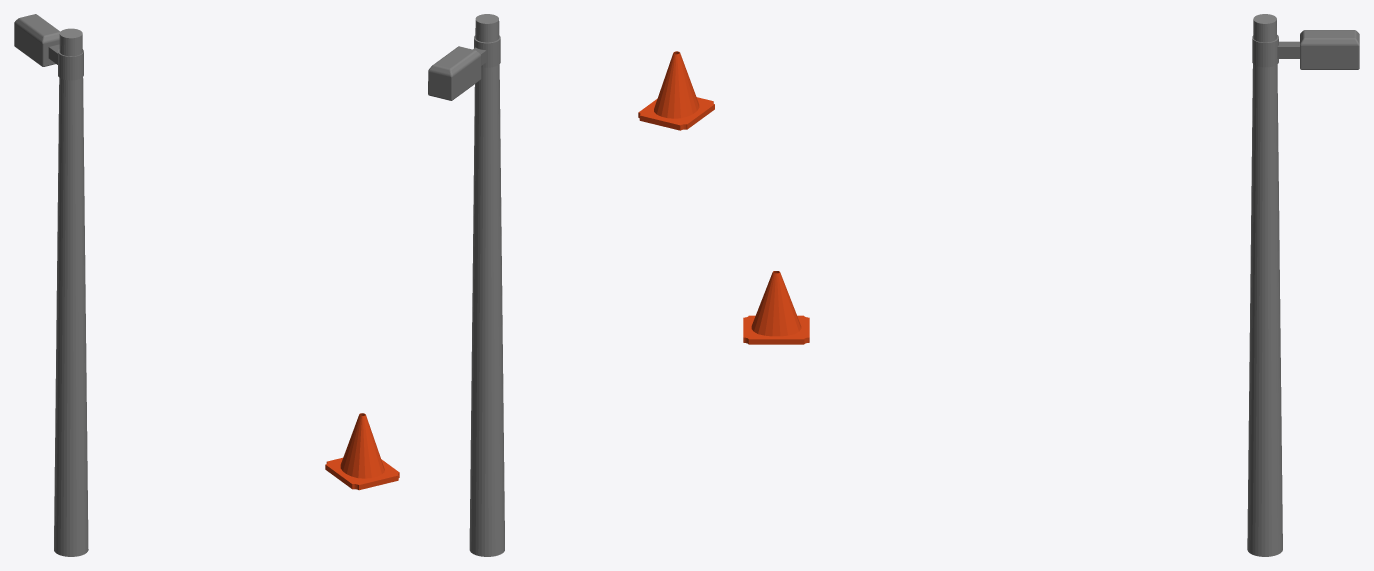
The model's file is lightpostncone.fbx.
3 renders of one model, left to right at view 1: azimuth 30°, elevation 25°; view 2: azimuth 150°, elevation 25°; view 3: azimuth 270°, elevation 25°, orthographic. The views are drawn at different scales.
Visible parts, largest first — view 1: Cylinder.002, Cube.002, Cube.001, Cylinder.001; view 2: Cylinder.002, Cube.002, Cube.001, Cylinder.001; view 3: Cylinder.002, Cube.002, Cube.001.
Part boxes in pixels (x1=…): Cylinder.002: x1=54, y1=28, x2=88, y2=556; Cube.002: x1=325, y1=413, x2=399, y2=490; Cube.001: x1=14, y1=14, x2=60, y2=66; Cylinder.001: x1=58, y1=49, x2=83, y2=80; Cylinder.002: x1=469, y1=14, x2=504, y2=556; Cube.002: x1=638, y1=51, x2=714, y2=130; Cube.001: x1=428, y1=46, x2=481, y2=100; Cylinder.001: x1=474, y1=35, x2=500, y2=67; Cylinder.002: x1=1247, y1=14, x2=1282, y2=556; Cube.002: x1=743, y1=271, x2=809, y2=344; Cube.001: x1=1300, y1=30, x2=1359, y2=69.
Size of the model in its own units: 69.29 by 370 by 390.
